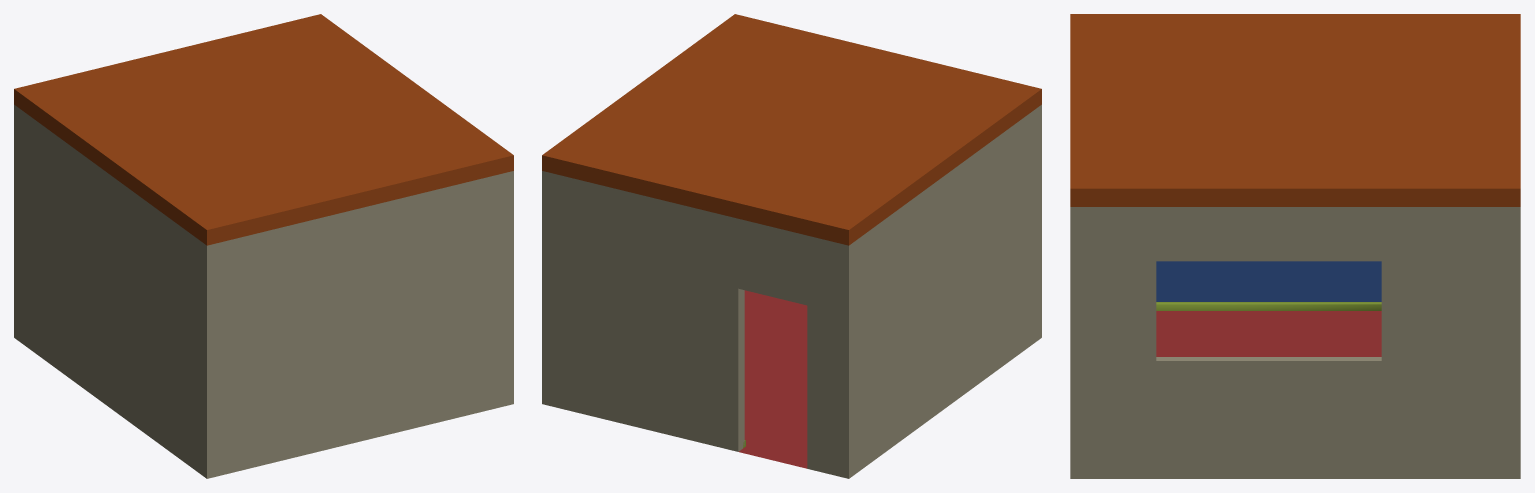
File: Display Room.fbx
3 renders of one model, left to right at view 1: azimuth 30°, elevation 25°; view 2: azimuth 150°, elevation 25°; view 3: azimuth 270°, elevation 25°, orthographic. The views are drawn at different scales.
Visible parts, largest first — view 1: Outer_wall, Roof; view 2: Outer_wall, Roof, Floor; view 3: Outer_wall, Roof, Floor, inner_Wall, Coving.
Part boxes in pixels (bbox=[...]): Outer_wall: bbox=[14, 104, 513, 478]; Roof: bbox=[14, 14, 513, 245]; Outer_wall: bbox=[542, 104, 1041, 478]; Roof: bbox=[542, 14, 1041, 245]; Floor: bbox=[739, 290, 807, 468]; Outer_wall: bbox=[1070, 207, 1520, 478]; Roof: bbox=[1070, 14, 1520, 206]; Floor: bbox=[1156, 311, 1381, 356]; inner_Wall: bbox=[1156, 261, 1381, 301]; Coving: bbox=[1156, 302, 1381, 310].
Size of the model in its own units: 163 by 177 by 126.
